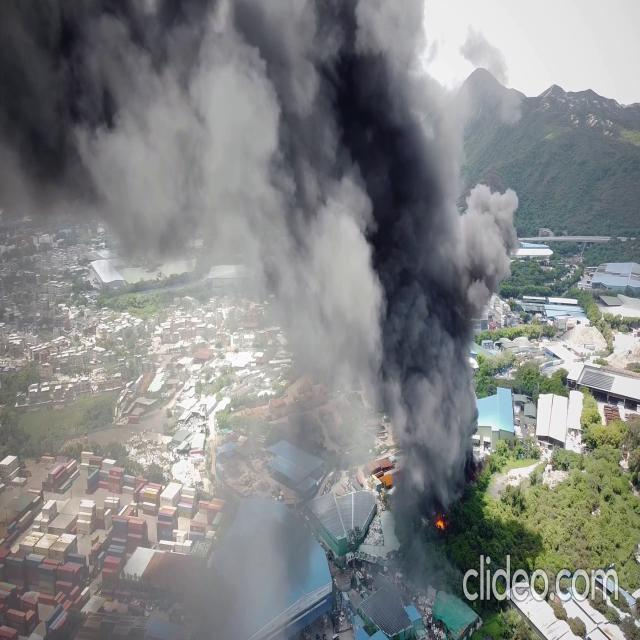Fire: (432, 514, 446, 536)
Smoke: (0, 0, 521, 557)
